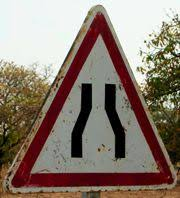Narrow_road: (3, 4, 180, 194)
